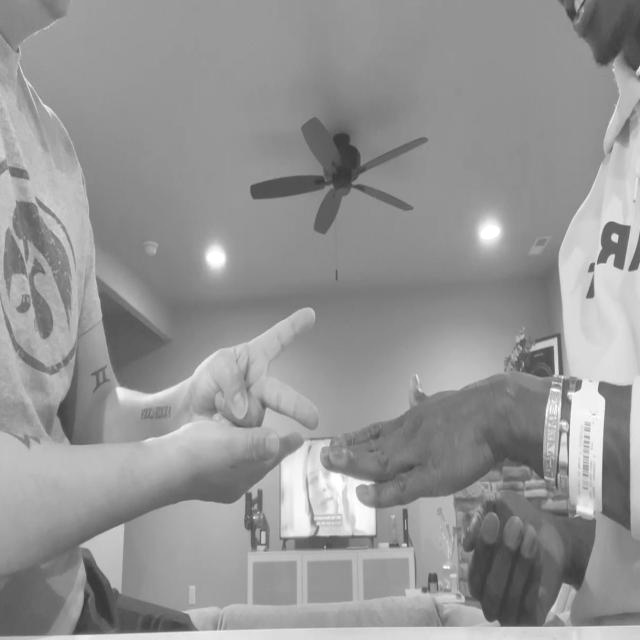Paper: (319, 374, 518, 512)
Scissors: (193, 306, 318, 435)
